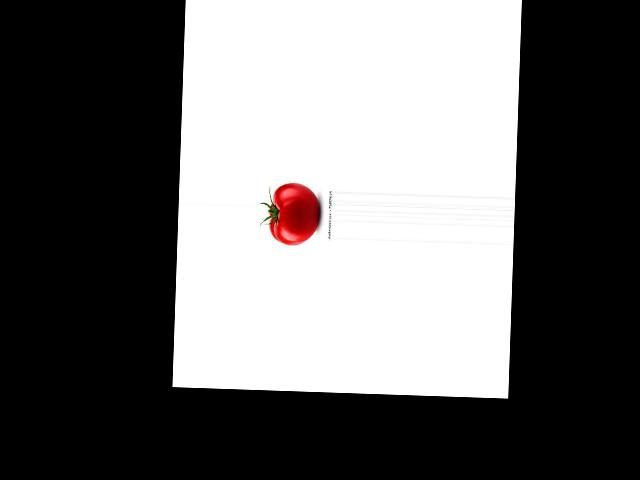tomato: (269, 182, 320, 246)
